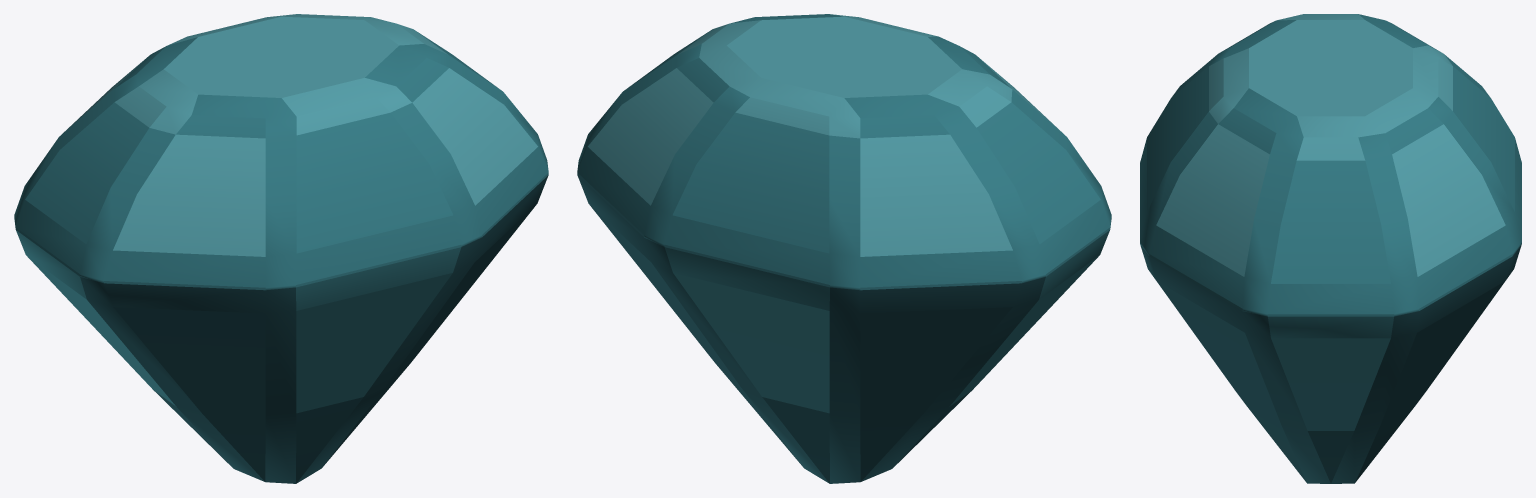
The model's file is Gem_27.glb.
The picture shows the model from 3 angles, left to right: view 1: azimuth 30°, elevation 25°; view 2: azimuth 150°, elevation 25°; view 3: azimuth 270°, elevation 25°; orthographic projection.
Visible parts, largest first — view 1: Gem_27; view 2: Gem_27; view 3: Gem_27.
Part boxes in pixels (<box>): Gem_27: <box>14,14,548,483</box>; Gem_27: <box>577,14,1111,483</box>; Gem_27: <box>1140,14,1521,483</box>.
Bounding box in the file's own units: 1 × 0.8517 × 0.7211.
